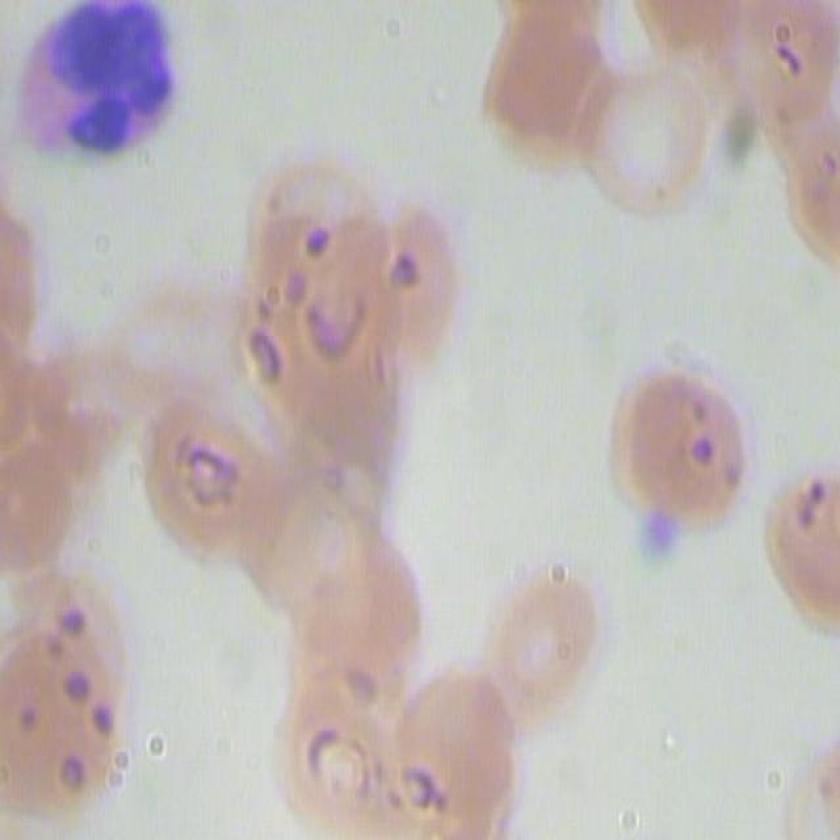eosinophil: (11, 1, 202, 168)
